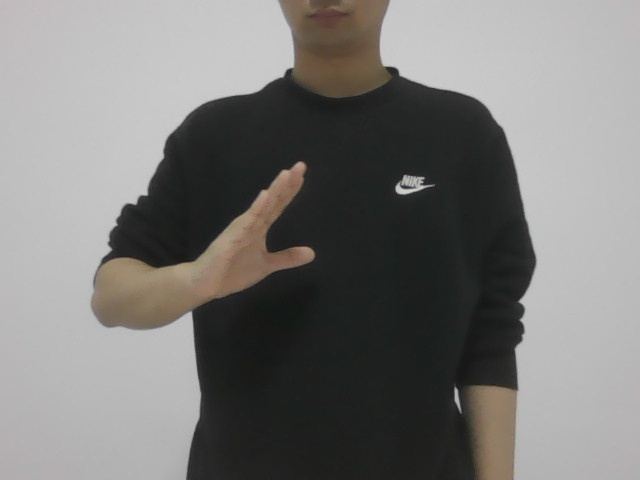morning: (196, 156, 323, 304)
